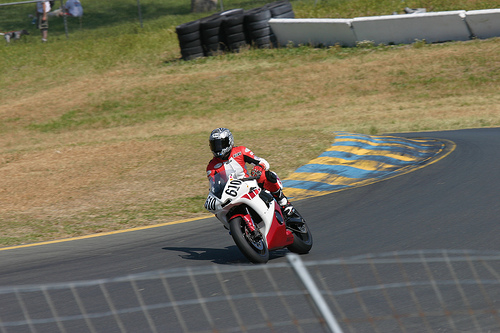helmet: (202, 126, 233, 154)
